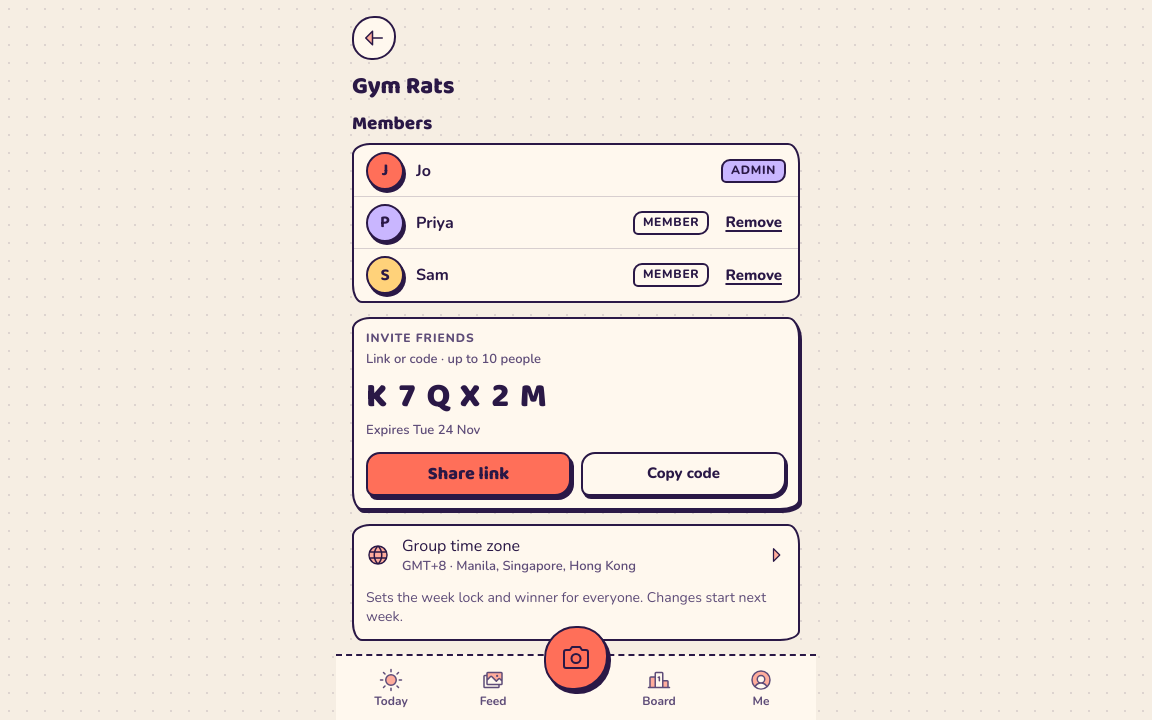
Test case: remove a member › confirms with the story copy, removes, closes and refreshes the list
The image size is (1152, 720).
expect the heading "Gym Rats" is shown: met, box [352, 67, 455, 106]
Click the button with aria-label "Remove Sam": coordinates (754, 275) [722, 253, 786, 297]
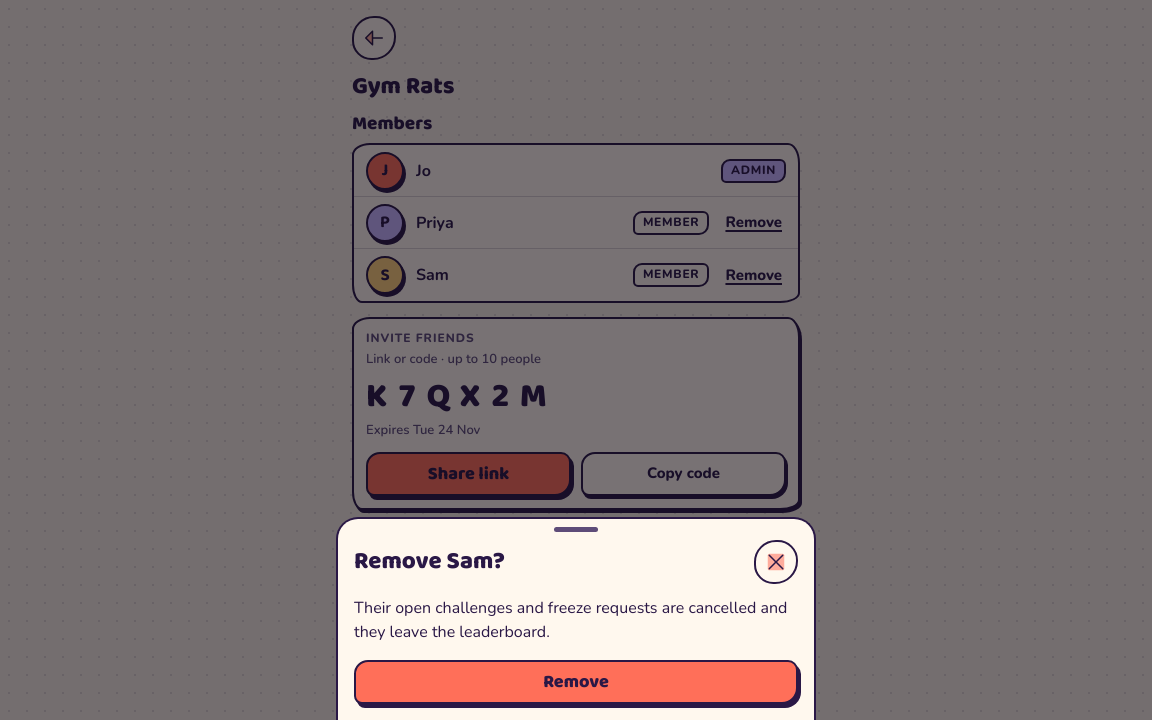
expect the text "Their open challenges and freeze requests are cancelled and they leave the leaderboard." is shown: met, box [354, 597, 787, 643]
Click the button "Remove": coordinates (576, 682) [354, 660, 798, 704]
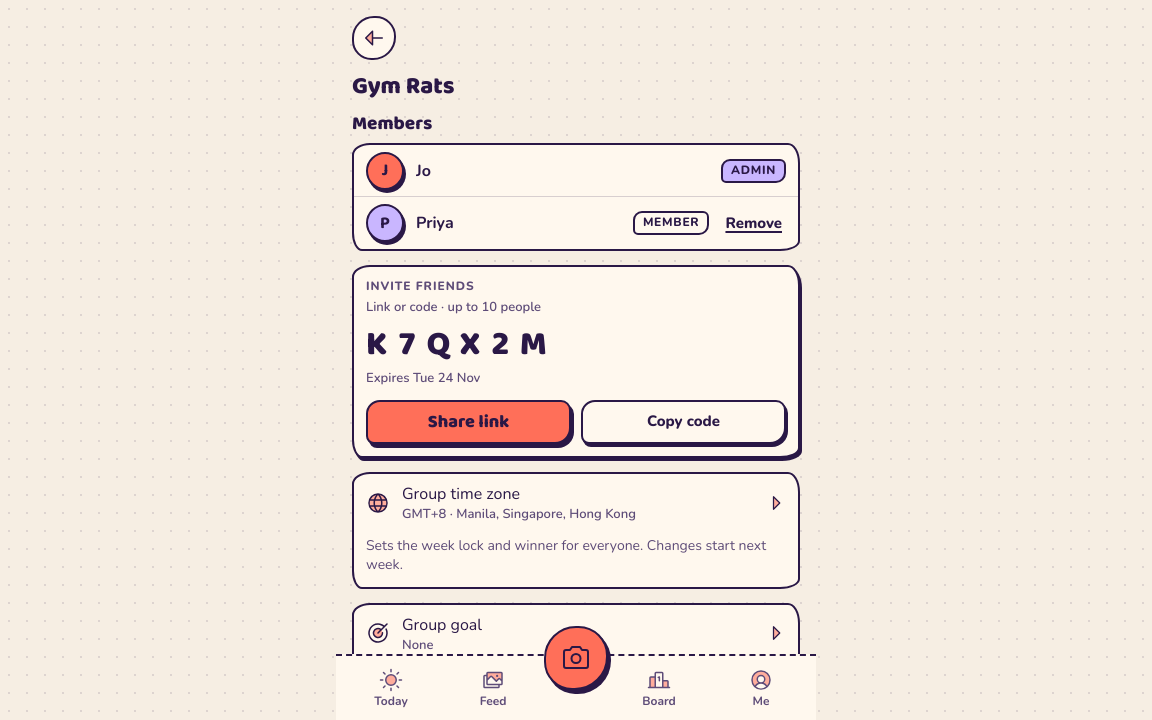
expect the text "Priya" is shown: met, box [416, 212, 454, 234]
expect the dialog is gone: met
expect the text "Sam" is gone: met
